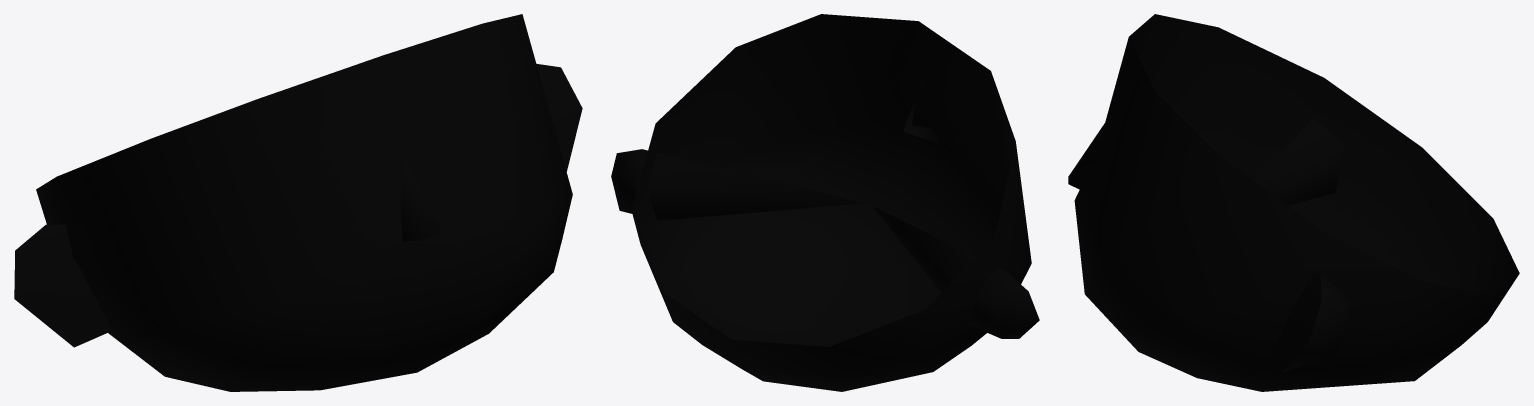
The model's file is bald_ear_b.dae.
3 views of the same model, side by side, from view 1: azimuth 30°, elevation 25°; view 2: azimuth 150°, elevation 25°; view 3: azimuth 270°, elevation 25° (orthographic). The views are drawn at different scales.
Parts seen in each view (by area): view 1: bald_ear_b; view 2: bald_ear_b; view 3: bald_ear_b.
Part boxes in pixels (<box>): bald_ear_b: <box>14,14,582,391</box>; bald_ear_b: <box>611,14,1039,391</box>; bald_ear_b: <box>1068,14,1519,391</box>.
Size of the model in its own units: 26.61 by 16.67 by 21.14.
1 material, 1 textured.
